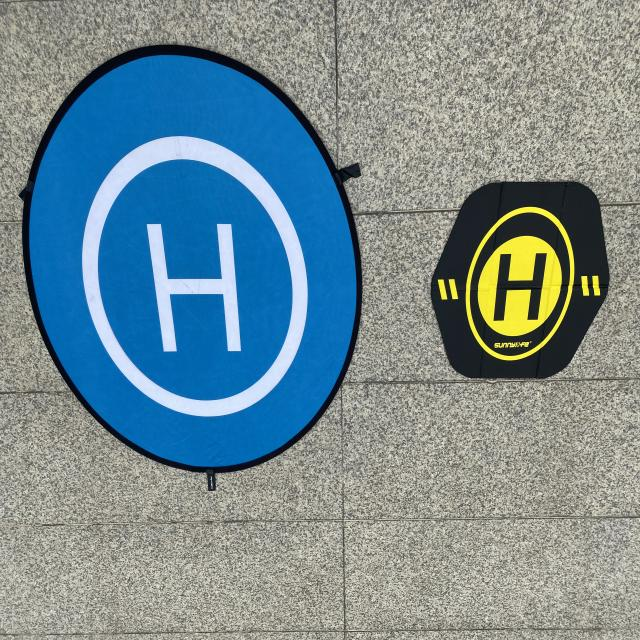helipad: (73, 125, 314, 432), (460, 198, 580, 371)
